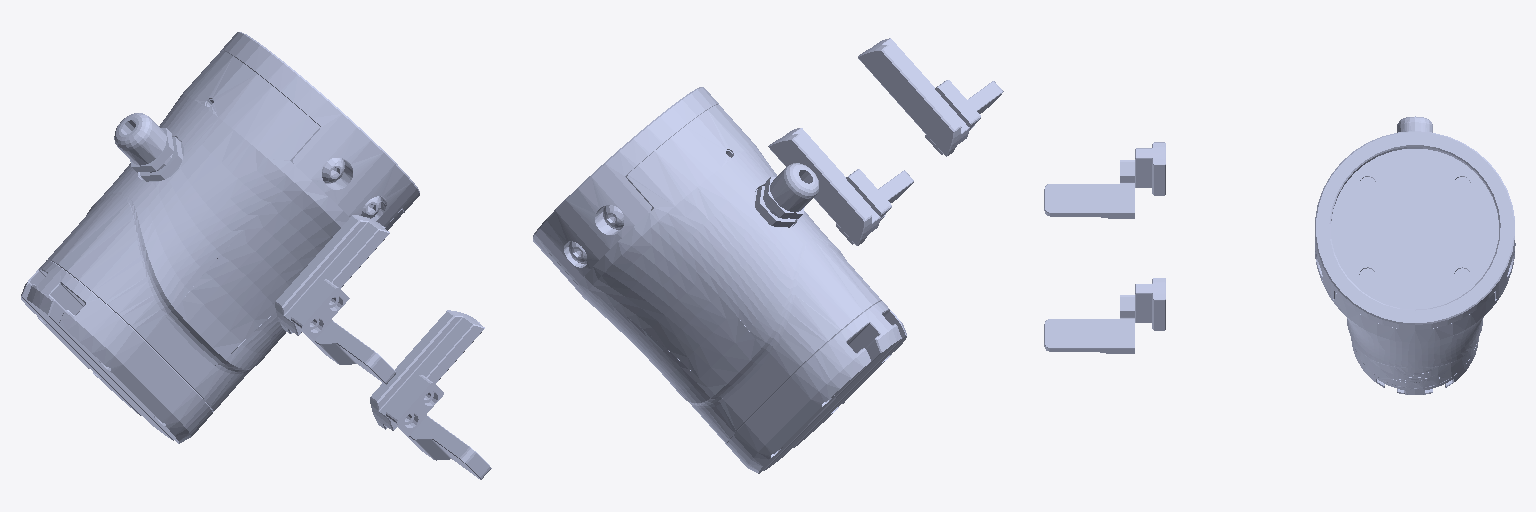
URDF robot description (fr5_robot):
<?xml version="1.0" encoding="utf-8"?>
<!-- This URDF was automatically created by SolidWorks to URDF Exporter! Originally created by [author] ([email redacted]) 
     Commit Version: 1.5.1-0-g916b5db  Build Version: 1.5.7152.31018
     For more information, please see http://wiki.ros.org/sw_urdf_exporter -->
<robot name="fr5_robot">
  <link name="base_link">
    <inertial>
      <origin xyz="-0.00044457 0.0004811 0.032592" rpy="0 0 0"/>
      <mass value="1.62"/>
      <inertia ixx="0.0024567" ixy="-1.5435E-05" ixz="-1.3507E-05" iyy="0.0024575" iyz="1.4421E-05" izz="0.0038879"/>
    </inertial>
    <visual>
      <origin xyz="0 0 0" rpy="0 0 0"/>
      <geometry>
        <mesh filename="../meshes/visual/base.dae"/>
      </geometry>
      <material name="">
        <color rgba="0.89804 0.91765 0.92941 1"/>
      </material>
    </visual>
    <collision>
      <origin xyz="0 0 0" rpy="0 0 0"/>
      <geometry>
        <mesh filename="../meshes/collision/base_link.STL" />
      </geometry>
    </collision>
  </link>
  <link name="shoulder_Link">
    <inertial>
      <origin xyz="1.3785E-06 -0.0031495 0.14526" rpy="0 0 0"/>
      <mass value="4.38"/>
      <inertia ixx="0.010397" ixy="-1.005E-08" ixz="1.6274E-07" iyy="0.010278" iyz="0.00015856" izz="0.0076307" />
    </inertial>
    <visual>
      <origin xyz="0 0 0" rpy="0 0 0"/>
      <geometry>
        <mesh filename="../meshes/visual/shoulder.dae" />
      </geometry>
      <material name="">
        <color rgba="0.89804 0.91765 0.92941 1"/>
      </material>
    </visual>
    <collision>
      <origin xyz="0 0 0" rpy="0 0 0"/>
      <geometry>
        <mesh filename="../meshes/collision/shoulder_Link.STL" />
      </geometry>
    </collision>
  </link>
  <joint name="j1" type="revolute">
    <origin xyz="0 0 0" rpy="0 0 0"/>
    <parent link="base_link"/>
    <child link="shoulder_Link"/>
    <axis xyz="0 0 1"/>
    <limit lower="-3.0543261" upper="3.0543261" effort="150" velocity="3.15"/>
    <calibration rising="0" falling="0"/>
    <dynamics damping="0" friction="0"/>
    <safety_controller soft_upper_limit="3.0543261" soft_lower_limit="-3.0543261" k_position="100.0" k_velocity="40.0"/>
  </joint>
  <link name="upperarm_Link">
    <inertial>
      <origin xyz="-2.2928E-05 0.33278 0.084237" rpy="0 0 0"/>
      <mass value="14.46"/>
      <inertia ixx="2.9074" ixy="-0.00023104" ixz="-2.5049E-05" iyy="0.12653" iyz="-0.1479" izz="2.8157"/>
    </inertial>
    <visual>
      <origin xyz="0 0 0" rpy="0 0 0"/>
      <geometry>
        <mesh filename="../meshes/visual/upperarm.dae"/>
      </geometry>
      <material name="">
        <color rgba="0.89804 0.91765 0.92941 1"/>
      </material>
    </visual>
    <collision>
      <origin xyz="0 0 0" rpy="0 0 0"/>
      <geometry>
        <mesh filename="../meshes/collision/upperarm_Link.STL"/>
      </geometry>
    </collision>
  </link>
  <joint name="j2" type="revolute">
    <origin xyz="0 0 0.155" rpy="1.570796 -1.570796 0"/>
    <parent link="shoulder_Link"/>
    <child link="upperarm_Link"/>
    <axis xyz="0 0 1"/>
    <limit lower="-4.6251225" upper="1.4835298" effort="150" velocity="3.15"/>
    <calibration rising="0" falling="0"/>
    <dynamics damping="0" friction="0"/>
    <safety_controller soft_upper_limit="1.4835298" soft_lower_limit="-4.6251225" k_position="100" k_velocity="40"/>
  </joint>
  <link name="forearm_Link">
    <inertial>
      <origin xyz="0.092224 -2.2928E-05 0.084237" rpy="0 0 0"/>
      <mass value="7.67" />
      <inertia ixx="0.12653" ixy="0.00023104" ixz="0.1479" iyy="2.9074" iyz="-2.5049E-05" izz="2.8157"/>
    </inertial>
    <visual>
      <origin xyz="0 0 0" rpy="0 0 0"/>
      <geometry>
        <mesh filename="../meshes/visual/forearm.dae"/>
      </geometry>
      <material name="">
        <color rgba="0.89804 0.91765 0.92941 1" />
      </material>
    </visual>
    <collision>
      <origin xyz="0 0 0" rpy="0 0 0"/>
      <geometry>
        <mesh filename="../meshes/collision/forearm_Link.STL"/>
      </geometry>
    </collision>
  </link>
  <joint name="j3" type="revolute">
    <origin xyz="0 0.425 0" rpy="0 0 -1.570796"/>
    <parent link="upperarm_Link"/>
    <child link="forearm_Link"/>
    <axis xyz="0 0 1"/>
    <limit lower="-2.8274333" upper="2.8274333" effort="150" velocity="3.15"/>
    <calibration rising="0" falling="0"/>
    <dynamics damping="0" friction="0"/>
    <safety_controller soft_upper_limit="2.8274333" soft_lower_limit="-2.8274333" k_position="100" k_velocity="40"/>
  </joint>
  <link name="wrist1_Link">
    <inertial>
      <origin xyz="0.48722 -2.2928E-05 0.084237" rpy="0 0 0"/>
      <mass value="1.63"/>
      <inertia ixx="0.12653" ixy="0.00023104" ixz="0.1479" iyy="2.9074" iyz="-2.5049E-05" izz="2.8157"/>
    </inertial>
    <visual>
      <origin xyz="0 0 0" rpy="0 0 0"/>
      <geometry>
        <mesh filename="../meshes/visual/wrist1.dae"/>
      </geometry>
      <material name="">
        <color rgba="0.89804 0.91765 0.92941 1"/>
      </material>
    </visual>
    <collision>
      <origin xyz="0 0 0" rpy="0 0 0"/>
      <geometry>
        <mesh filename="../meshes/collision/wrist1_Link.STL"/>
      </geometry>
    </collision>
  </link>
  <joint name="j4" type="revolute">
    <origin xyz="-0.395 0 0" rpy="0 0 1.570796"/>
    <parent link="forearm_Link"/>
    <child link="wrist1_Link"/>
    <axis xyz="0 0 1"/>
    <limit lower="-4.6251225" upper="1.4835298" effort="28" velocity="3.2"/>
    <calibration rising="0" falling="0"/>
    <dynamics damping="0" friction="0"/>
    <safety_controller soft_upper_limit="1.4835298" soft_lower_limit="-4.6251225" k_position="100" k_velocity="40"/>
  </joint>
  <link name="wrist2_Link">
    <inertial>
      <origin xyz="-2.396E-06 0.0045906 0.099342" rpy="0 0 0" />
      <mass value="1.58" />
      <inertia ixx="0.0022393" ixy="-1.0022E-07" ixz="-3.2115E-08" iyy="0.0013914" iyz="-2.2223E-05" izz="0.0021864"/>
    </inertial>
    <visual>
      <origin xyz="0 0 0" rpy="0 0 0"/>
      <geometry>
        <mesh filename="../meshes/visual/wrist2.dae"/>
      </geometry>
      <material name="">
        <color rgba="0.89804 0.91765 0.92941 1"/>
      </material>
    </visual>
    <collision>
      <origin xyz="0 0 0" rpy="0 0 0"/>
      <geometry>
        <mesh filename="../meshes/collision/wrist2_Link.STL"/>
      </geometry>
    </collision>
  </link>
  <joint name="j5" type="revolute">
    <origin xyz="0 0 0.13" rpy="1.570796 0 -1.570796"/>
    <parent link="wrist1_Link"/>
    <child link="wrist2_Link"/>
    <axis xyz="0 0 1"/>
    <limit lower="-3.0543261" upper="3.0543261" effort="28" velocity="3.2"/>
    <calibration rising="0" falling="0"/>
    <dynamics damping="0" friction="0"/>
    <safety_controller soft_upper_limit="3.0543261" soft_lower_limit="-3.0543261" k_position="100" k_velocity="40"/>
  </joint>
  <link name="wrist3_Link">
    <inertial>
      <origin xyz="5.8427E-06 7.5807E-05 0.079126" rpy="0 0 0"/>
      <mass value="0.53"/>
      <inertia ixx="0.00027801" ixy="-3.5346E-07" ixz="-1.7431E-07" iyy="0.00027736" iyz="-7.5888E-08" izz="0.00041582"/>
    </inertial>
    <visual>
      <origin xyz="0 0 0" rpy="0 0 0"/>
      <geometry>
        <mesh filename="../meshes/visual/wrist3.dae"/>
      </geometry>
      <material name="">
        <color rgba="0.89804 0.91765 0.92941 1"/>
      </material>
    </visual>
    <collision>
      <origin xyz="0 0 0" rpy="0 0 0"/>
      <geometry>
        <mesh filename="../meshes/collision/wrist3_Link.STL"/>
      </geometry>
    </collision>
  </link>
  <joint name="j6" type="revolute">
    <origin xyz="0 0 0.102" rpy="-1.570796 2.268928 0"/>
    <parent link="wrist2_Link"/>
    <child link="wrist3_Link"/>
    <axis xyz="0 0 1"/>
    <limit lower="-3.0543261" upper="3.0543261" effort="28" velocity="3.2"/>
    <calibration rising="0" falling="0"/>
    <dynamics damping="0" friction="0"/>
    <safety_controller soft_upper_limit="3.0543261" soft_lower_limit="-3.0543261" k_position="100" k_velocity="40"/>
  </joint>
<!--  -->
    <joint name="joint_name" type="fixed">
        <origin xyz="0.0 0.0 0.1" rpy="-1.570796 0.0 0.0"/>
        <parent link="wrist3_Link"/>
        <child link="hand_link"/>
    </joint>
<!--  -->

  <link
    name="hand_link">
    <inertial>
      <origin
        xyz="0.000202784577698885 2.40807412214759E-07 0.0456161736429875"
        rpy="0 0 0" />
      <mass
        value="0.368734196303599" />
      <inertia
        ixx="0.000347654045373352"
        ixy="7.51154384864223E-10"
        ixz="3.50436507906162E-07"
        iyy="0.000389610220674797"
        iyz="1.57203880991348E-09"
        izz="0.000231212949990384" />
    </inertial>
    <visual>
      <origin
        xyz="0 0 0"
        rpy="0 0 0" />
      <geometry>
        <mesh
          filename="../meshes/visual/hand_link.STL" />
      </geometry>
      <material
        name="">
        <color
          rgba="0.792156862745098 0.819607843137255 0.933333333333333 1" />
      </material>
    </visual>
    <!-- <collision>
      <origin
        xyz="0 0 0"
        rpy="0 0 0" />
      <geometry>
        <mesh
          filename="../meshes/collision/hand_link.STL" />
      </geometry>
    </collision> -->
  </link>
  <link
    name="right_Link">
    <inertial>
      <origin
        xyz="-0.00240639009737045 -0.00537808438994709 0.04771123395791"
        rpy="0 0 0" />
      <mass
        value="0.00611302049882005" />
      <inertia
        ixx="5.62287471422857E-07"
        ixy="5.31684992801E-08"
        ixz="-2.90600109770119E-09"
        iyy="8.03323694884152E-07"
        iyz="-1.43603066786496E-08"
        izz="4.21108720795459E-07" />
    </inertial>
    <visual>
      <origin
        xyz="0 0 0"
        rpy="0 0 0" />
      <geometry>
        <mesh
          filename="../meshes/visual/hand_right_link.STL" />
      </geometry>
      <material
        name="">
        <color
          rgba="0.792156862745098 0.819607843137255 0.933333333333333 1" />
      </material>
    </visual>
    <!-- <collision>
      <origin
        xyz="0 0 0"
        rpy="0 0 0" />
      <geometry>
        <mesh
          filename="../meshes/collision/hand_right_link.STL" />
      </geometry>
    </collision> -->
  </link>
    <link
    name="left_Link">
    <inertial>
      <origin
        xyz="0.00240639003941403 0.00547808438994564 0.0477112339608321"
        rpy="0 0 0" />
      <mass
        value="0.00611302049883519" />
      <inertia
        ixx="5.62287471418912E-07"
        ixy="5.3168499262486E-08"
        ixz="2.90600126901107E-09"
        iyy="8.03323694888239E-07"
        iyz="1.43603067431931E-08"
        izz="4.21108720803636E-07" />
    </inertial>
    <visual>
      <origin
        xyz="0 0 0"
        rpy="0 0 0" />
      <geometry>
        <mesh
          filename="../meshes/visual/hand_left_link.STL" />
      </geometry>
      <material
        name="">
        <color
          rgba="0.792156862745098 0.819607843137255 0.933333333333333 1" />
      </material>
    </visual>
    <!-- <collision>
      <origin
        xyz="0 0 0"
        rpy="0 0 0" />
      <geometry>
        <mesh
          filename="../meshes/collision/hand_left_link.STL" />
      </geometry>
    </collision> -->
  </link>
  <joint
    name="right_joint"
    type="prismatic">
    <origin
      xyz="-0.026066 -0.1045 -5E-05"
      rpy="0 0 1.5708" />
    <parent
      link="hand_link" />
    <child
      link="right_Link" />
    <axis
      xyz="0 1 0" />
    <limit
      lower="0"
      upper="0.026066"
      effort="20"
      velocity="0.6" />
  </joint>
  <joint
    name="left_joint"
    type="prismatic">
    <origin
      xyz="0.026066 -0.1045 -5E-05"
      rpy="0 0 -1.5708" />
    <parent
      link="hand_link" />
    <child
      link="left_Link" />
    <axis
      xyz="0 -1 0" />
    <limit
      lower="-0.026066"
      upper="0"
      effort="20"
      velocity="0.6" />
  </joint>
</robot>

--- What the picture shows (computed from the rendered views, not written in the file) ---
The picture shows the robot from 3 angles, left to right: view 1: azimuth 30°, elevation 25°; view 2: azimuth 150°, elevation 25°; view 3: azimuth 270°, elevation 25°; orthographic projection.
Model fr5_robot with 10 links and 9 joints (6 revolute, 2 prismatic, 1 fixed), rooted at base_link, posed every joint at zero.
Links seen in each view (by area): view 1: hand_link, left_Link, right_Link; view 2: hand_link, left_Link, right_Link; view 3: hand_link, left_Link, right_Link.
Link boxes in pixels (left/top/right/bottom): hand_link: left=21, top=32, right=419, bottom=443; left_Link: left=275, top=215, right=396, bottom=384; right_Link: left=370, top=310, right=491, bottom=479; hand_link: left=533, top=87, right=906, bottom=473; left_Link: left=858, top=38, right=1003, bottom=156; right_Link: left=768, top=128, right=913, bottom=245; hand_link: left=1315, top=116, right=1515, bottom=394; left_Link: left=1044, top=142, right=1165, bottom=218; right_Link: left=1044, top=278, right=1165, bottom=353.
Size in the robot's own frame: 0.1277 by 0.1758 by 0.1237 metres.
3 mesh visuals loaded from 10 distinct referenced files (3 binary STL); not drawn: 7 (reference not matched to a file when rendering).